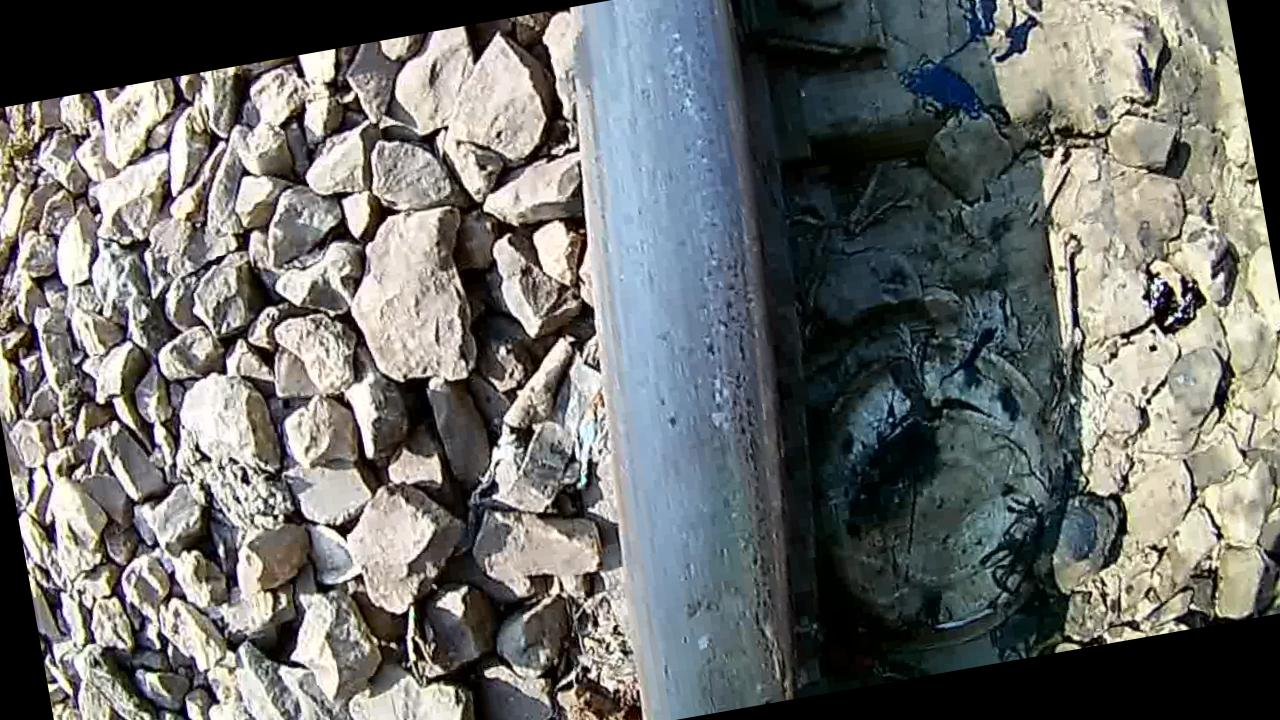bolt_missing: (565, 0, 859, 717)
